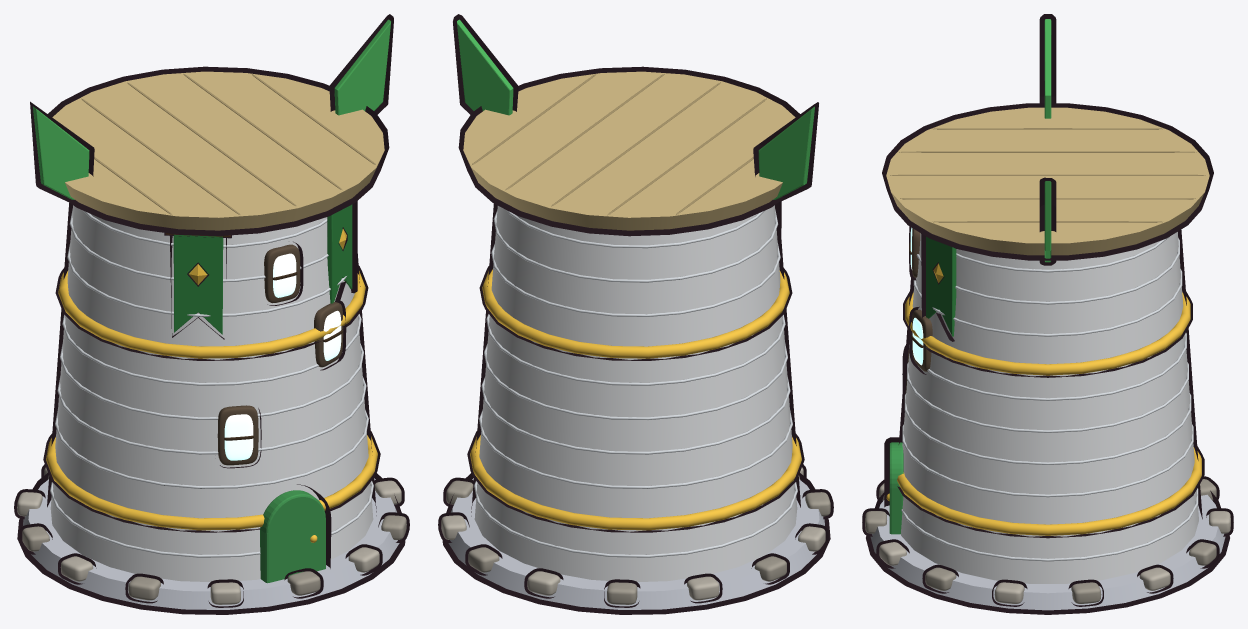
Rendered from tower_archer.glb.
3 renders of one model, left to right at view 1: azimuth 30°, elevation 25°; view 2: azimuth 150°, elevation 25°; view 3: azimuth 270°, elevation 25°, orthographic. The views are drawn at different scales.
Parts seen in each view (by area): view 1: object 32, object 58, object 2, banner (×2), win (×3), door, object 52, object 50, object 57, object 56, object 54, object 1 (+20 smaller); view 2: object 32, object 58, object 2, object 50, object 52, object 57, object 56, object 54, object 1, object 31, object 33, object 35 (+17 smaller); view 3: object 32, object 58, object 2, object 57, object 50, object 52, banner, object 1, win (×2), door, object 31, object 35 (+20 smaller).
Part boxes in pixels (x1=…): object 32: x1=50, y1=205, x2=373, y2=582; object 58: x1=52, y1=71, x2=384, y2=230; object 2: x1=23, y1=478, x2=399, y2=609; banner (×2): x1=164, y1=201, x2=357, y2=339; win (×3): x1=217, y1=241, x2=346, y2=468; door: x1=260, y1=484, x2=331, y2=583; object 52: x1=58, y1=270, x2=365, y2=358; object 50: x1=46, y1=435, x2=377, y2=530; object 57: x1=48, y1=66, x2=389, y2=236; object 56: x1=334, y1=19, x2=390, y2=115; object 54: x1=33, y1=106, x2=89, y2=199; object 1: x1=17, y1=473, x2=405, y2=614; object 32: x1=474, y1=205, x2=797, y2=582; object 58: x1=463, y1=71, x2=795, y2=230; object 2: x1=448, y1=478, x2=824, y2=609; object 50: x1=470, y1=435, x2=801, y2=530; object 52: x1=482, y1=269, x2=789, y2=358; object 57: x1=458, y1=66, x2=799, y2=236; object 56: x1=457, y1=19, x2=513, y2=115; object 54: x1=758, y1=106, x2=814, y2=199; object 1: x1=442, y1=473, x2=830, y2=614; object 31: x1=471, y1=203, x2=800, y2=516; object 33: x1=474, y1=481, x2=797, y2=557; object 35: x1=479, y1=410, x2=792, y2=488; object 32: x1=901, y1=232, x2=1198, y2=583; object 58: x1=886, y1=107, x2=1209, y2=255; object 2: x1=870, y1=494, x2=1225, y2=610; object 57: x1=882, y1=103, x2=1213, y2=260; object 50: x1=897, y1=447, x2=1201, y2=535; object 52: x1=905, y1=292, x2=1190, y2=375; banner: x1=921, y1=233, x2=956, y2=341; object 1: x1=866, y1=490, x2=1229, y2=614; win (×2): x1=909, y1=226, x2=932, y2=374; door: x1=884, y1=437, x2=903, y2=534; object 31: x1=898, y1=230, x2=1202, y2=519; object 35: x1=902, y1=424, x2=1193, y2=497.
Bounding box in the file's own units: 1.92 × 2.42 × 1.84.
